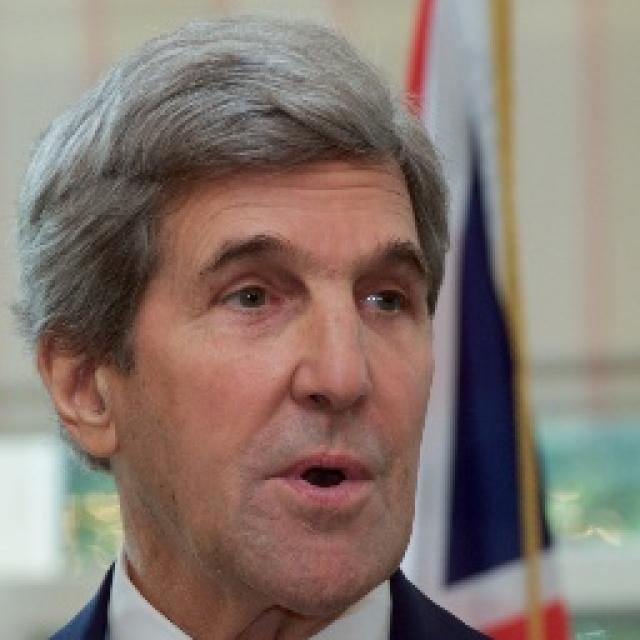earlobe: (78, 430, 120, 458)
eye: (221, 284, 281, 312), (361, 288, 408, 314)
nose: (286, 395, 375, 450)
wholeear: (32, 312, 122, 458)
